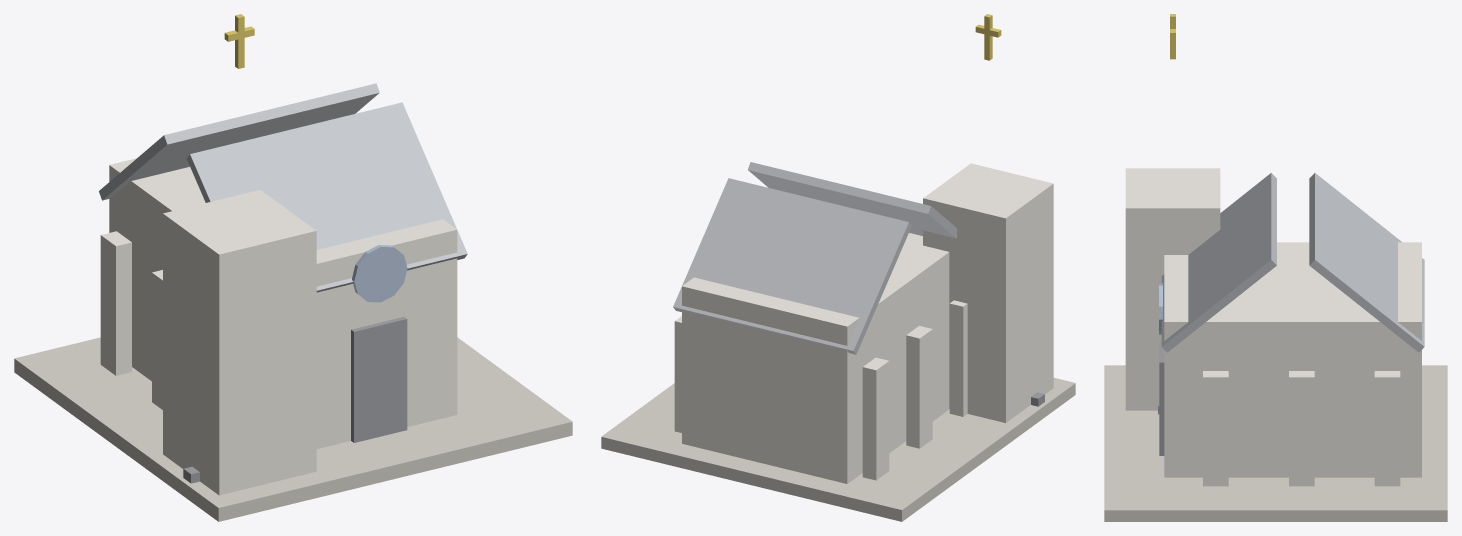
The model's file is CHURCH.glb.
3 views of the same model, side by side, from view 1: azimuth 30°, elevation 25°; view 2: azimuth 150°, elevation 25°; view 3: azimuth 270°, elevation 25° (orthographic). The views are drawn at different scales.
Visible parts, largest first — view 1: CHURCH; view 2: CHURCH; view 3: CHURCH.
Boxes of the visible parts, x1,y1,x2,y2 form: CHURCH: (14, 14, 572, 521); CHURCH: (601, 14, 1075, 521); CHURCH: (1104, 14, 1447, 521).
Bounding box in the file's own units: 4 × 4.97 × 4.
